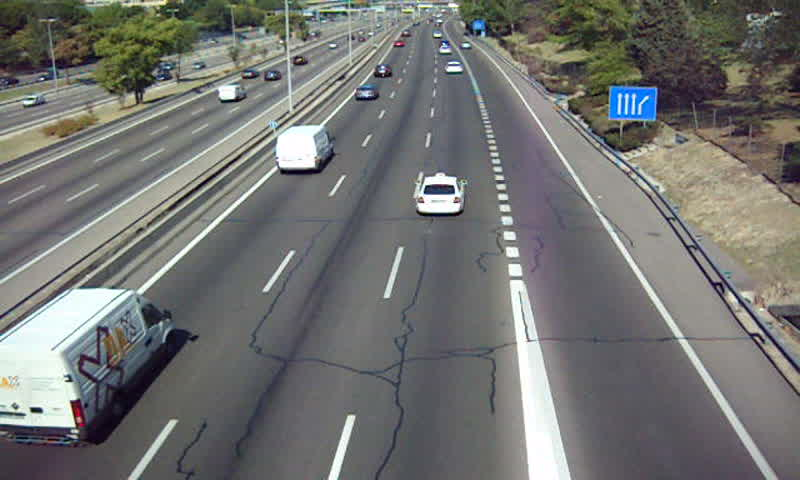car: (416, 175, 466, 213), (353, 86, 377, 104), (374, 63, 393, 80), (444, 60, 464, 75)
van: (1, 288, 173, 449), (276, 126, 332, 173)
